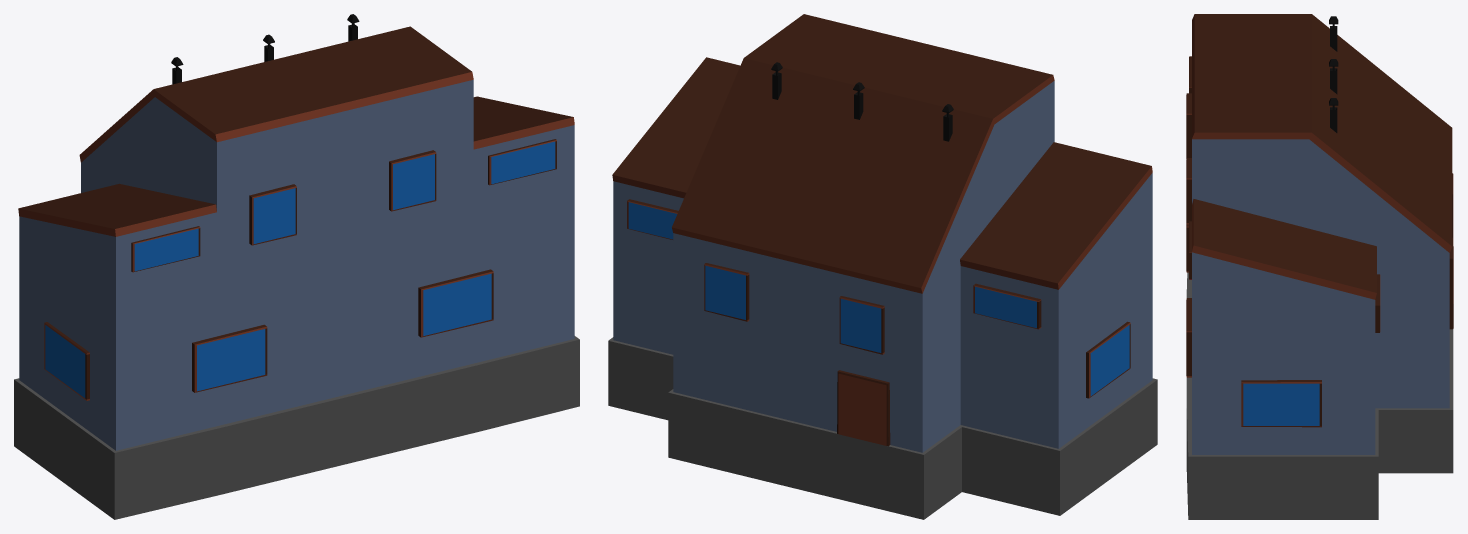
The model's file is House1_gray.FBX.
3 renders of one model, left to right at view 1: azimuth 30°, elevation 25°; view 2: azimuth 150°, elevation 25°; view 3: azimuth 270°, elevation 25°, orthographic. The views are drawn at different scales.
Parts seen in each view (by area): view 1: House1_gray; view 2: House1_gray; view 3: House1_gray.
Part boxes in pixels (left/top/right/bottom): House1_gray: left=14, top=14, right=579, bottom=519; House1_gray: left=608, top=14, right=1157, bottom=519; House1_gray: left=1186, top=14, right=1453, bottom=519.
Bounding box in the file's own units: 570 × 298 × 433.
